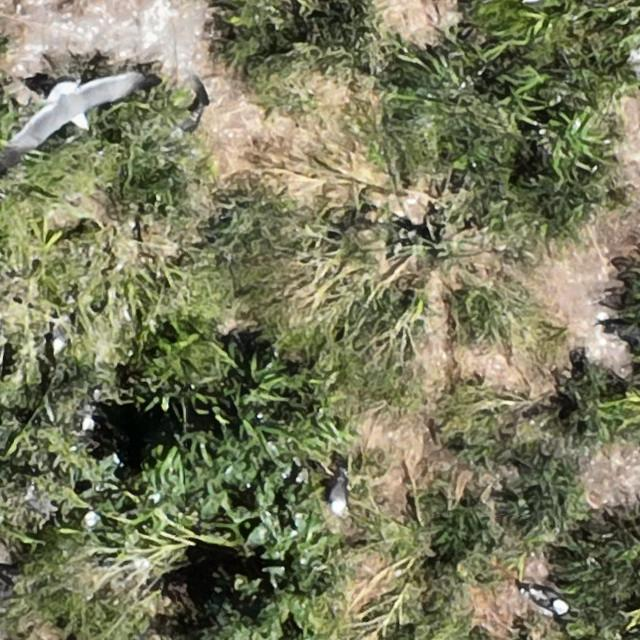F: (13, 64, 137, 153)
umineko: (530, 588, 566, 612), (329, 480, 348, 516)
